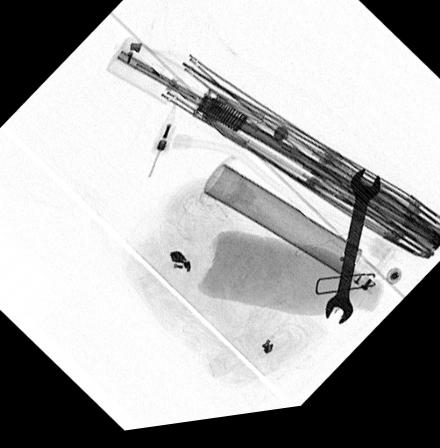Wrench: (322, 177, 382, 332)
